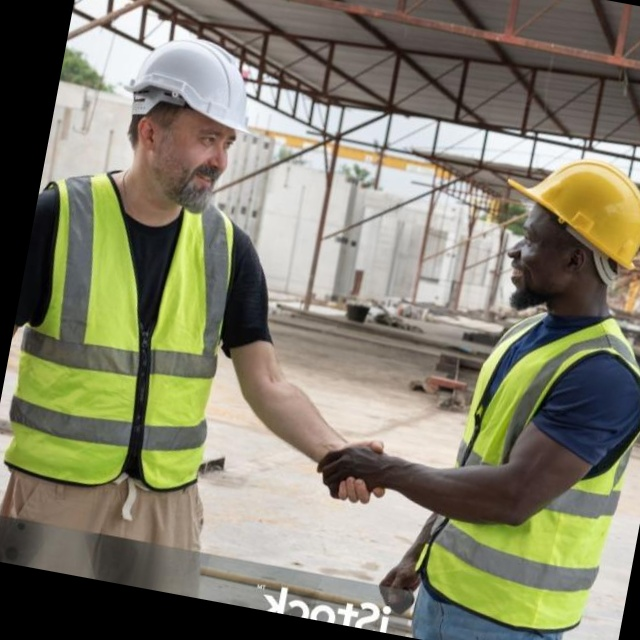Con_Casco: (108, 27, 268, 221), (484, 146, 640, 326)
Con_Chaleco: (0, 169, 252, 507), (404, 298, 640, 640)
